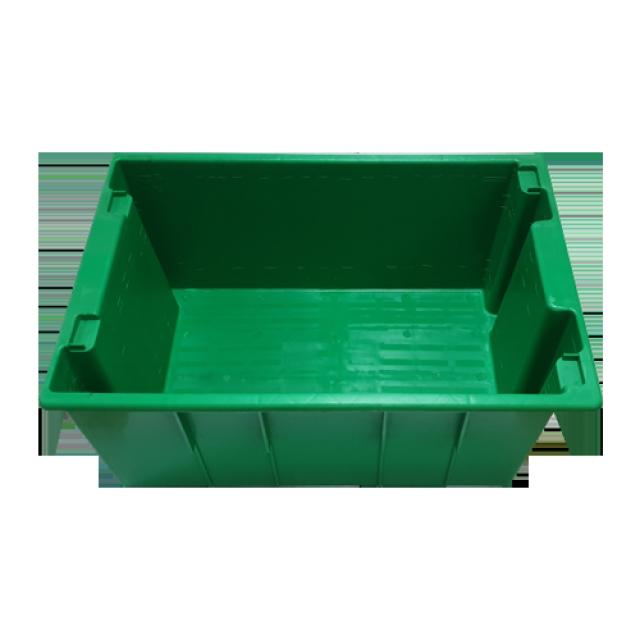basket: (40, 156, 604, 488)
